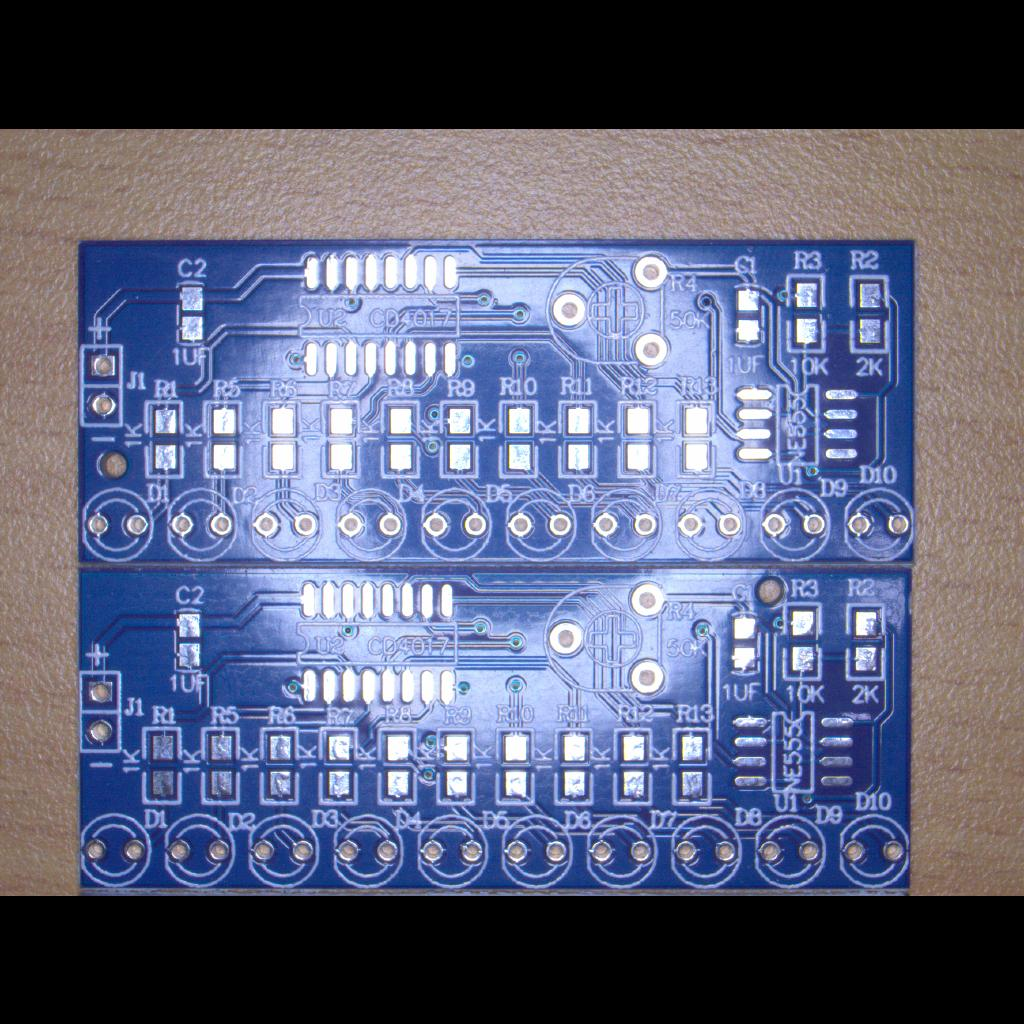NG: (290, 250, 466, 384), (290, 575, 466, 709), (726, 376, 868, 472), (726, 702, 858, 800), (780, 597, 826, 687), (614, 396, 662, 482), (430, 724, 480, 806), (843, 596, 889, 684), (317, 397, 365, 481), (668, 724, 716, 808), (783, 270, 829, 356), (196, 722, 242, 808), (258, 398, 306, 480), (491, 724, 539, 806), (437, 396, 483, 480), (556, 396, 602, 480), (846, 271, 892, 355), (139, 722, 185, 806), (551, 724, 597, 808), (610, 722, 656, 806), (258, 722, 302, 808), (316, 722, 360, 808), (374, 725, 420, 807), (142, 398, 186, 482), (378, 396, 422, 480), (498, 397, 540, 481), (202, 398, 244, 480), (675, 398, 717, 480), (170, 275, 212, 351), (724, 606, 764, 680), (171, 601, 207, 677), (730, 280, 766, 352)
